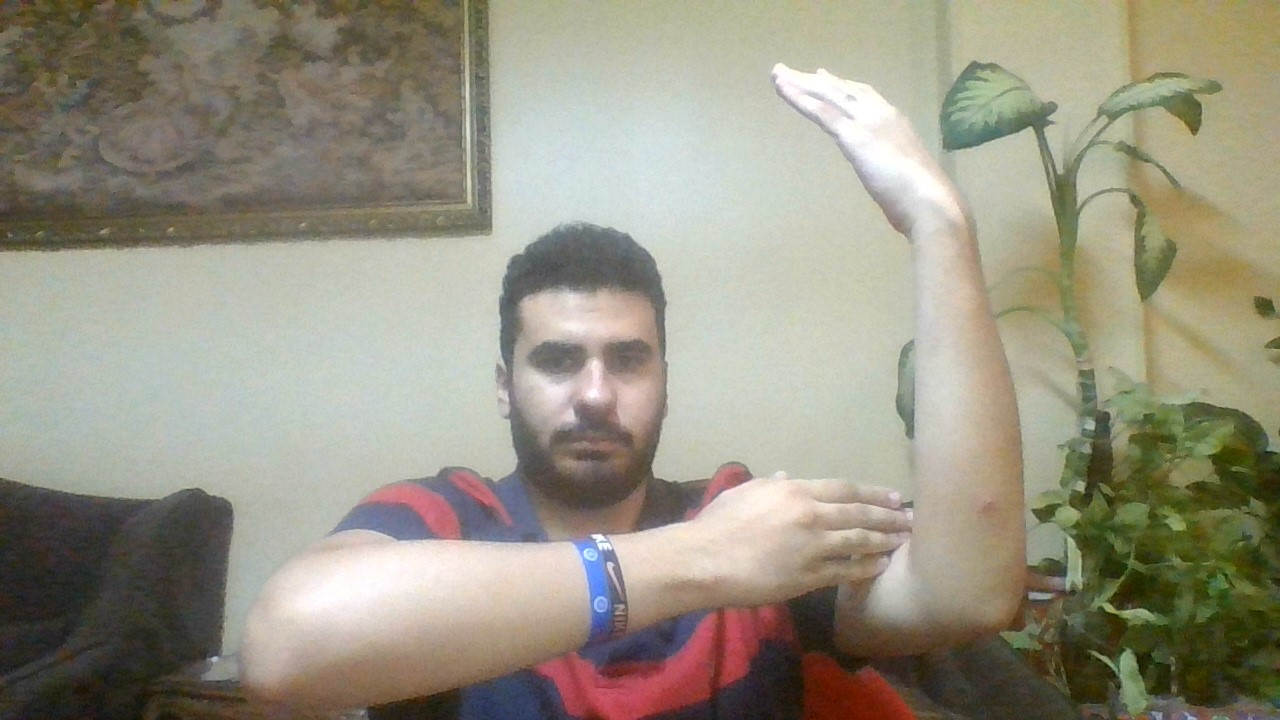morning: (678, 49, 1031, 634)
